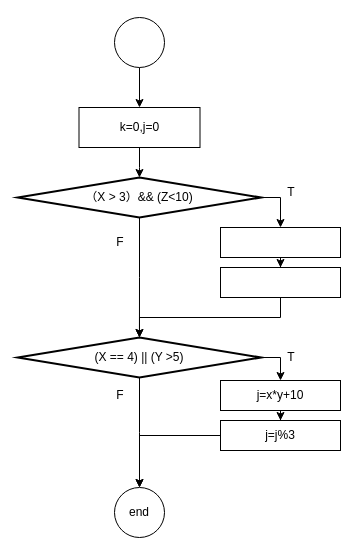
This 359x555 diagram has some shape labels left out. The shapes that lost their labels are listed below. From the top down, each one's box as (x1, y1, x2, y2) in pixels, then its label:
(114, 16, 164, 68): start
(220, 226, 340, 258): k=x*y-1
(220, 266, 340, 298): j=sqrt(k)
